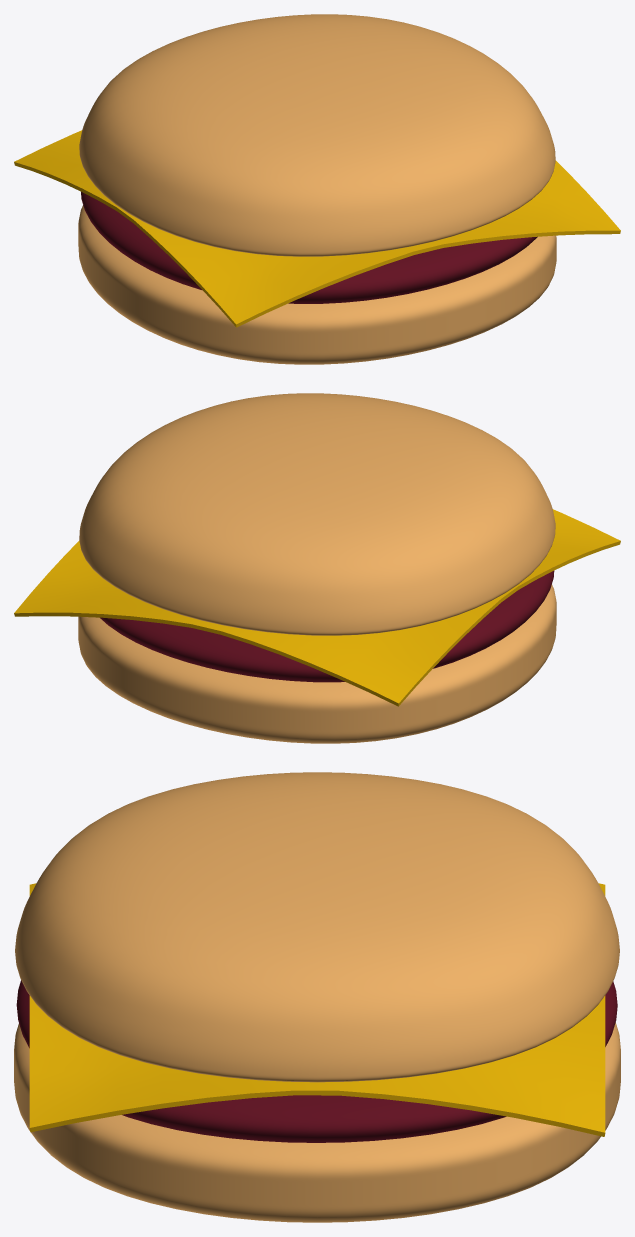
File: hamburger.glb
3 views of the same model, one above another, from view 1: azimuth 30°, elevation 25°; view 2: azimuth 150°, elevation 25°; view 3: azimuth 270°, elevation 25° (orthographic). The views are drawn at different scales.
Parts seen in each view (by area): view 1: Cube.002, Cube, Plane, Cube.001; view 2: Cube.002, Cube, Plane, Cube.001; view 3: Cube.002, Cube, Plane, Cube.001.
Part boxes in pixels (bbox=[...]): Cube.002: bbox=[79, 14, 555, 256]; Cube: bbox=[78, 205, 556, 364]; Plane: bbox=[14, 130, 620, 327]; Cube.001: bbox=[81, 192, 537, 303]; Cube.002: bbox=[79, 393, 555, 635]; Cube: bbox=[78, 584, 556, 743]; Plane: bbox=[14, 509, 620, 706]; Cube.001: bbox=[100, 571, 554, 682]; Cube.002: bbox=[15, 772, 619, 1082]; Cube: bbox=[14, 1022, 620, 1222]; Plane: bbox=[29, 883, 605, 1136]; Cube.001: bbox=[16, 980, 617, 1142].
Bounding box in the file's own units: 9.13 × 4.59 × 9.13.
